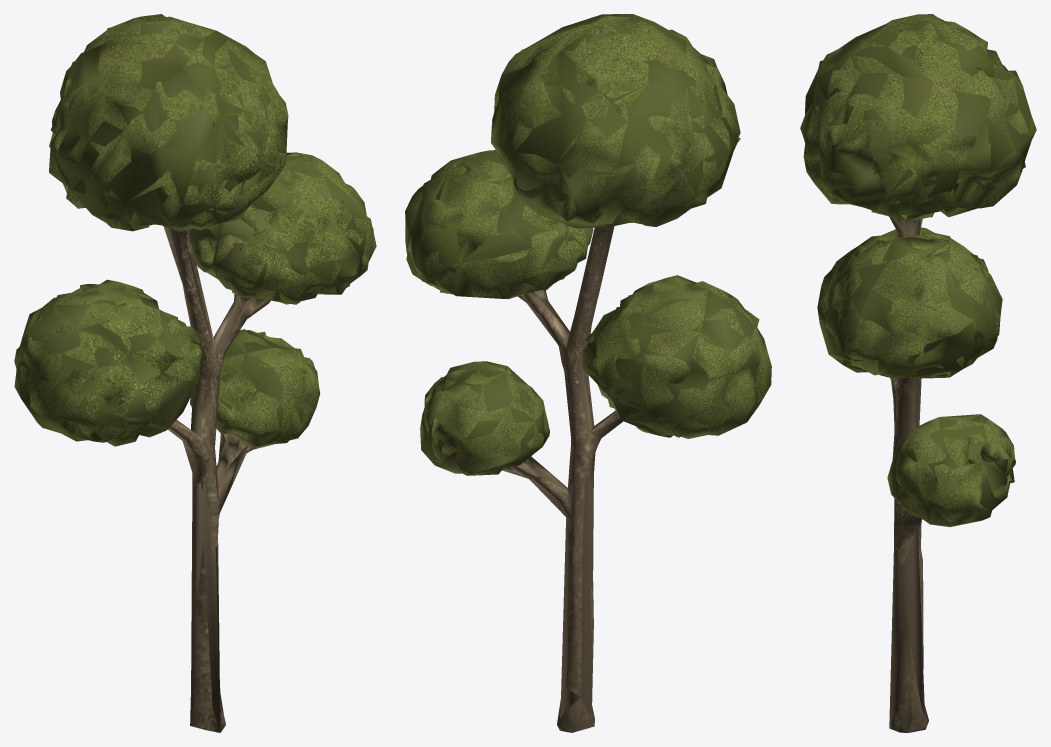
The model's file is roble_joven.glb.
3 renders of one model, left to right at view 1: azimuth 30°, elevation 25°; view 2: azimuth 150°, elevation 25°; view 3: azimuth 270°, elevation 25°, orthographic. The views are drawn at different scales.
Parts seen in each view (by area): view 1: cerca, medio, lejos; view 2: cerca, medio, lejos; view 3: cerca, medio, lejos.
Boxes of the visible parts, bbox=[...] form: cerca: bbox=[14, 14, 376, 732]; medio: bbox=[14, 14, 367, 731]; lejos: bbox=[38, 30, 341, 725]; cerca: bbox=[405, 14, 771, 732]; medio: bbox=[405, 14, 762, 719]; lejos: bbox=[421, 42, 758, 491]; cerca: bbox=[800, 14, 1036, 732]; medio: bbox=[805, 18, 1031, 730]; lejos: bbox=[806, 45, 1006, 731].
Size of the model in its own units: 2.01 by 3.99 by 1.26.
Materials: 2 (1 with a texture image).
